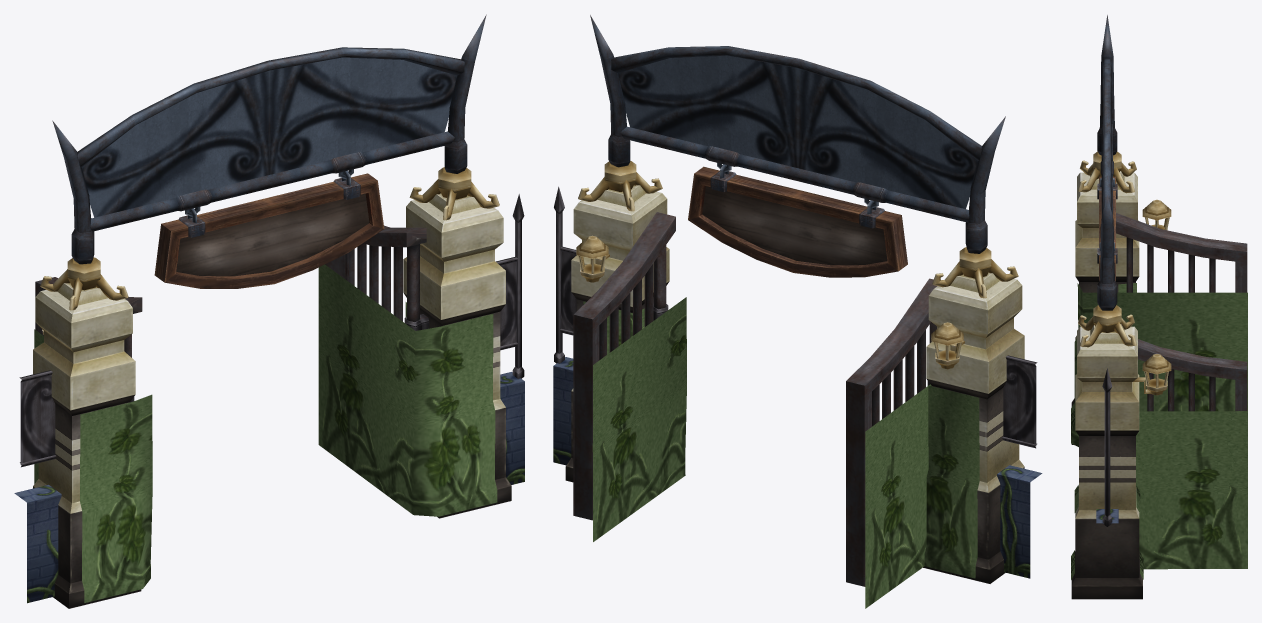
Rendered from a_SwTgate01_1.glb.
The picture shows the model from 3 angles, left to right: view 1: azimuth 30°, elevation 25°; view 2: azimuth 150°, elevation 25°; view 3: azimuth 270°, elevation 25°; orthographic projection. The views are drawn at different scales.
Parts seen in each view (by area): view 1: a_SwTgate01_1; view 2: a_SwTgate01_1; view 3: a_SwTgate01_1.
Boxes of the visible parts, x1,y1,x2,y2 form: a_SwTgate01_1: [14, 14, 524, 608]; a_SwTgate01_1: [553, 15, 1042, 608]; a_SwTgate01_1: [1071, 15, 1247, 599].
Bounding box in the file's own units: 6.07 × 5.5 × 2.17.
Materials: 8 (8 with a texture image).
